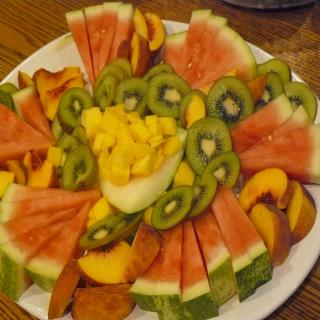Watermelon: (0, 2, 320, 320), (166, 9, 264, 91)
